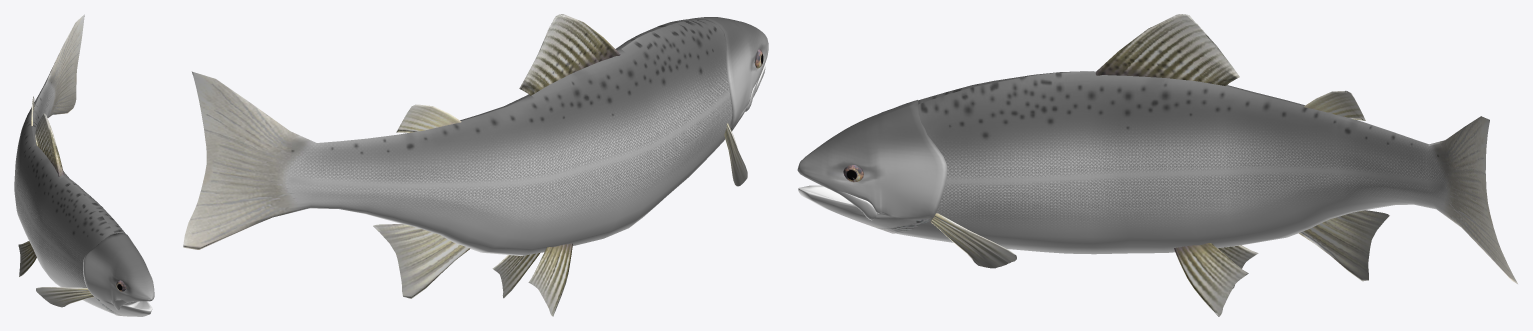
The model's file is sakuraMasuP3-2.obj.
3 views of the same model, side by side, from view 1: azimuth 30°, elevation 25°; view 2: azimuth 150°, elevation 25°; view 3: azimuth 270°, elevation 25° (orthographic). The views are drawn at different scales.
Parts seen in each view (by area): view 1: SakuraMasu_1; view 2: SakuraMasu_1; view 3: SakuraMasu_1.
Boxes of the visible parts, x1,y1,x2,y2 form: SakuraMasu_1: [14, 14, 154, 316]; SakuraMasu_1: [183, 14, 768, 316]; SakuraMasu_1: [797, 14, 1517, 316].
Size of the model in its own units: 0.1563 by 0.132 by 0.3018.
